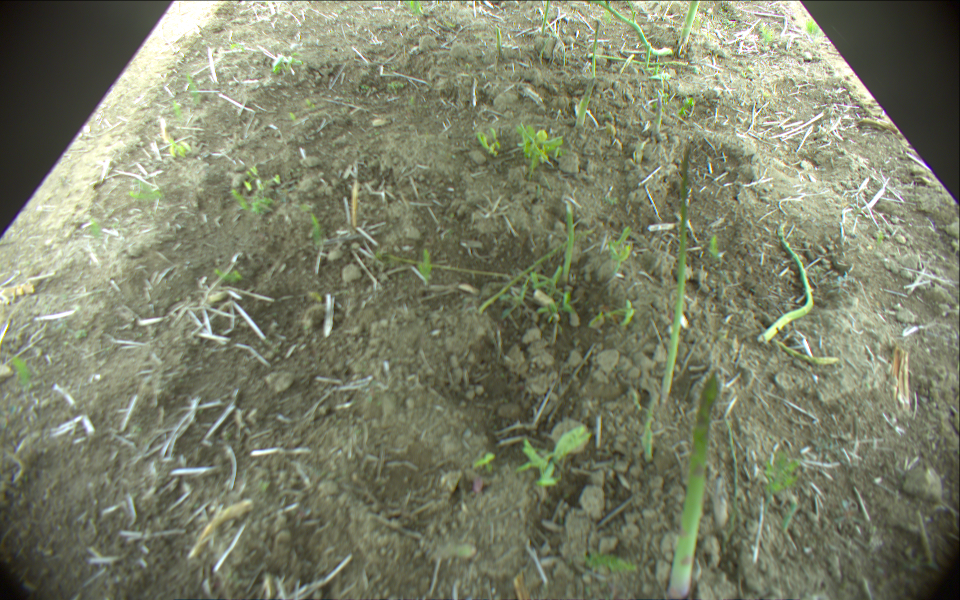aspa: (664, 371, 720, 600), (660, 145, 692, 405), (755, 221, 815, 344), (597, 1, 673, 56), (590, 51, 689, 66), (560, 201, 575, 282), (642, 391, 659, 460), (576, 77, 596, 130), (679, 1, 699, 45), (589, 23, 599, 78), (541, 1, 548, 37), (644, 45, 651, 69), (494, 29, 500, 50)
